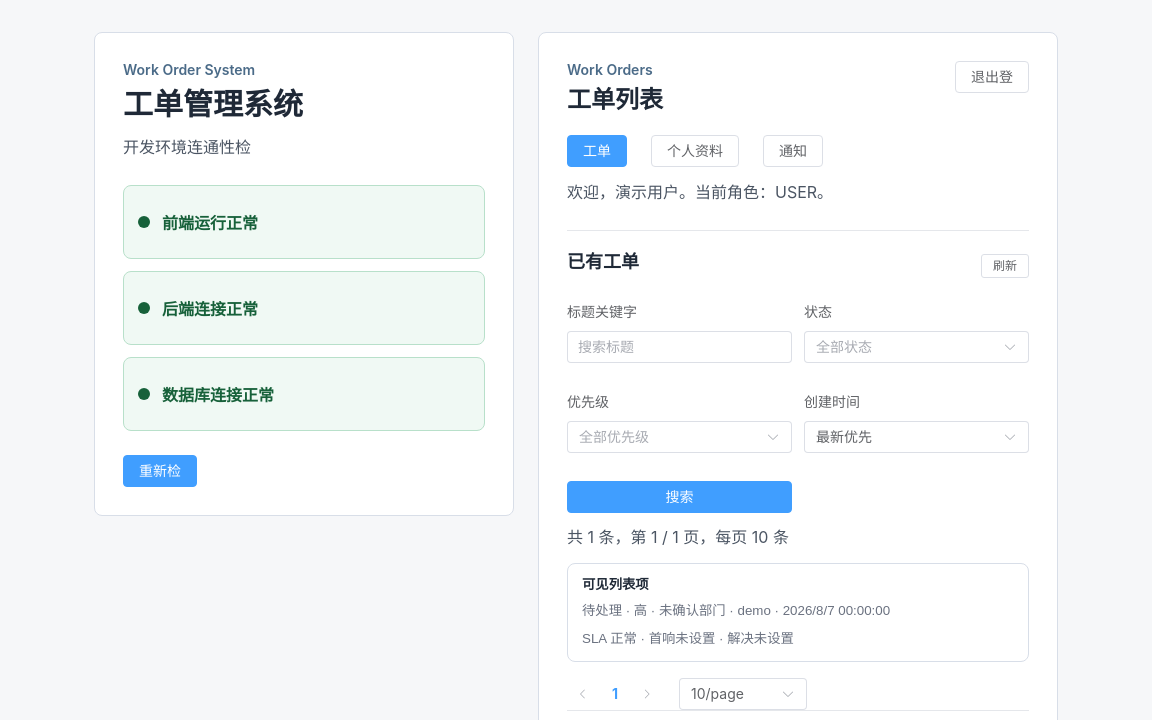
Test: App › shows detail error without leaked content
The image size is (1152, 720).
Click the button with class "work-order-item": [798, 612] box [567,563,1029,662]
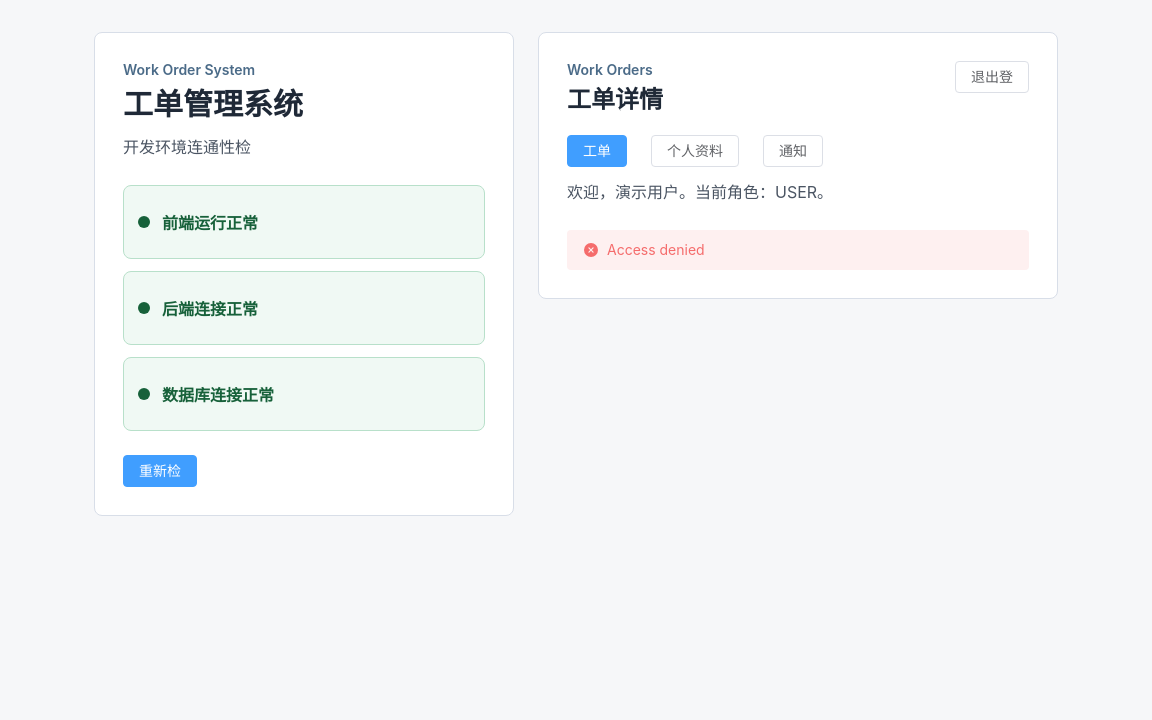
Expected: the text "Access denied" is shown, [607,238,705,262]
